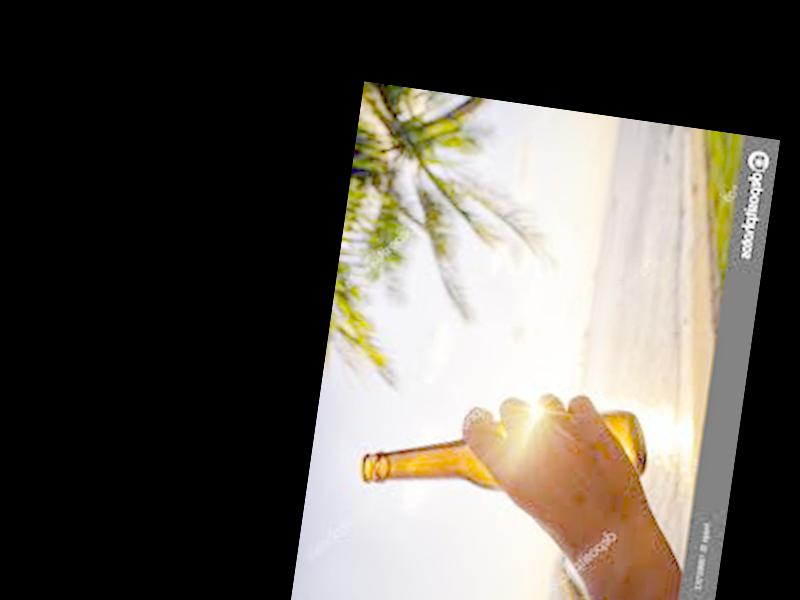Beer: (358, 375, 653, 522)
